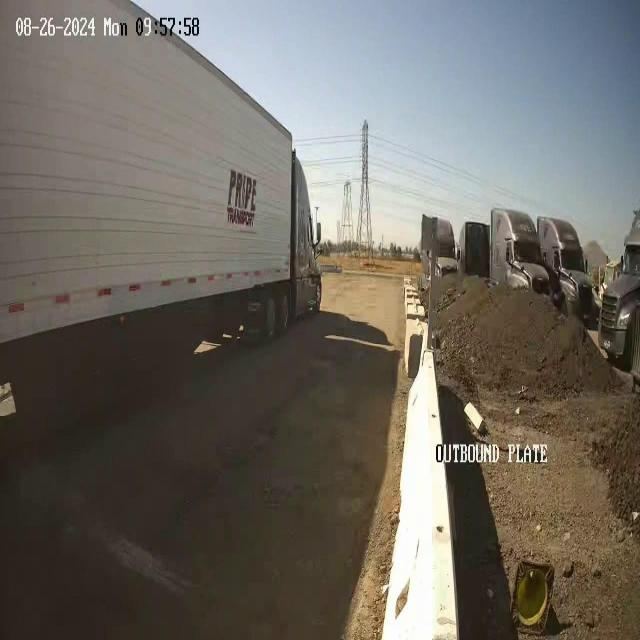TRUCK_IN: (0, 0, 322, 357)
